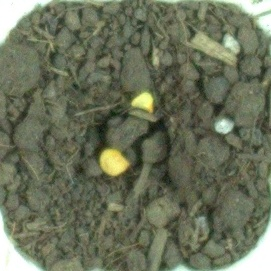pepper seed: (31, 58, 164, 235), (49, 32, 208, 146)
